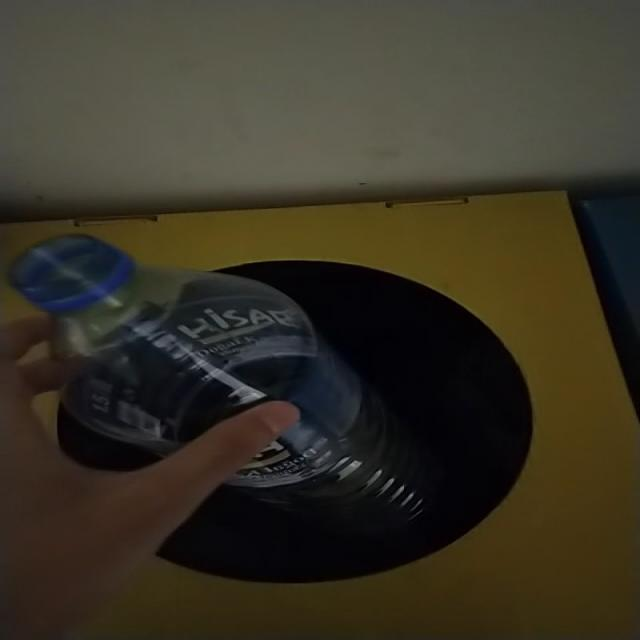Plastic: (8, 236, 440, 555)
